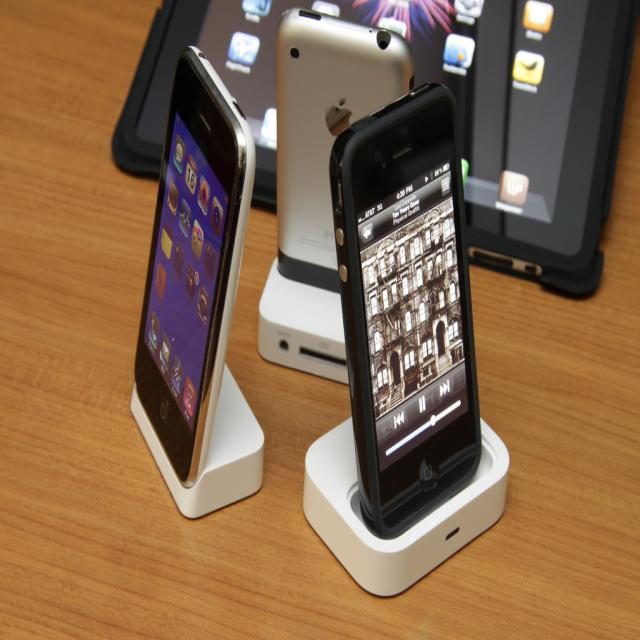Mobile-phone: (330, 72, 492, 551), (131, 47, 256, 490), (277, 7, 415, 294)
